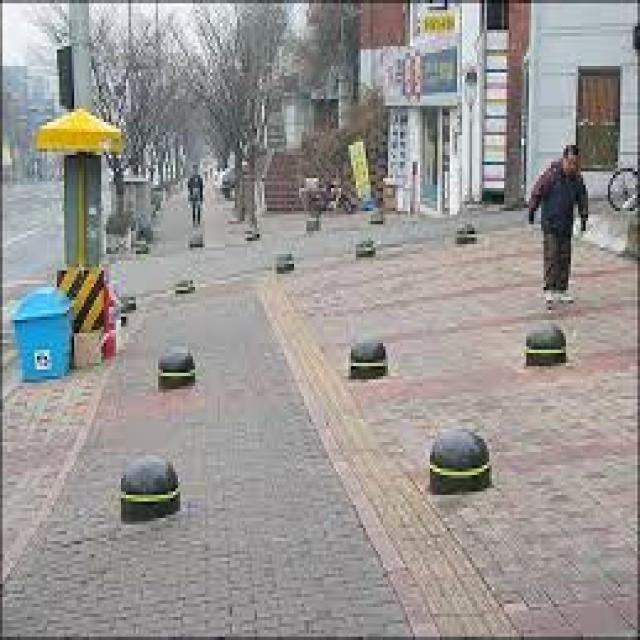bollard: (426, 408, 496, 500), (118, 442, 184, 524), (339, 328, 396, 385), (516, 313, 570, 373), (157, 331, 199, 390), (446, 216, 482, 253), (169, 270, 202, 302), (271, 246, 297, 279), (350, 232, 379, 259), (183, 227, 210, 254), (118, 281, 139, 313), (298, 212, 324, 236), (244, 224, 267, 246), (367, 202, 386, 228), (133, 235, 149, 259)
